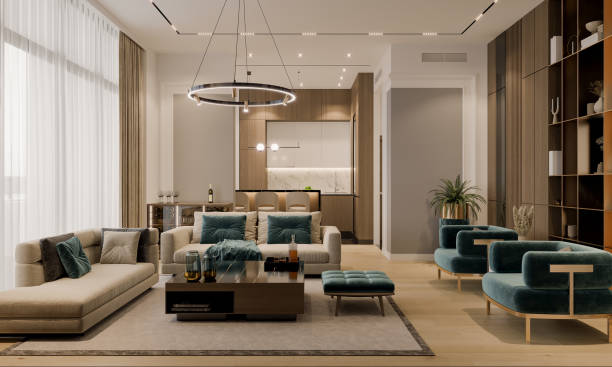chair: (480, 238, 612, 344), (434, 221, 520, 293)
flower vase: (508, 202, 536, 241)
small plant: (425, 171, 483, 221)
sofa: (0, 225, 160, 340), (161, 209, 343, 282)
table: (162, 255, 307, 325)
